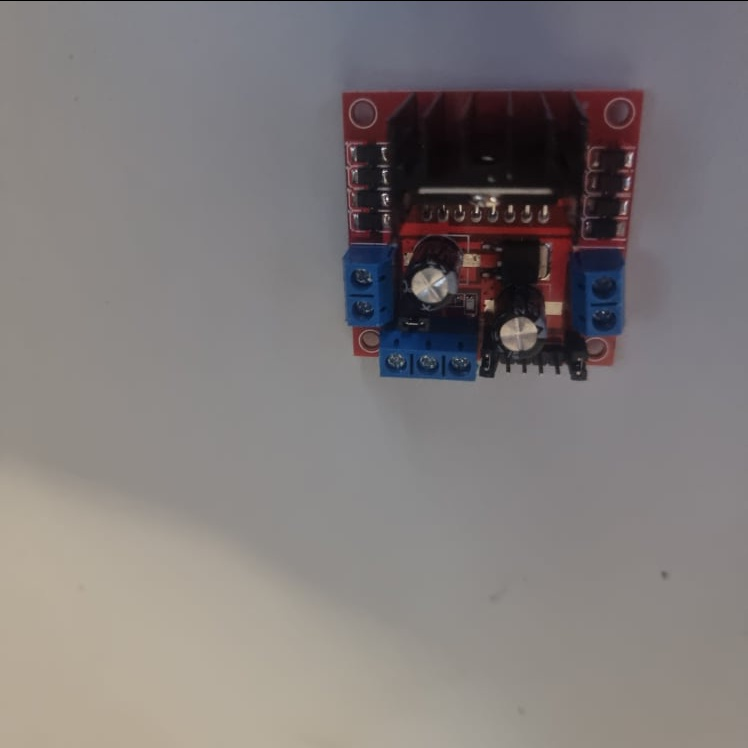MOTOR: (345, 85, 645, 387)
